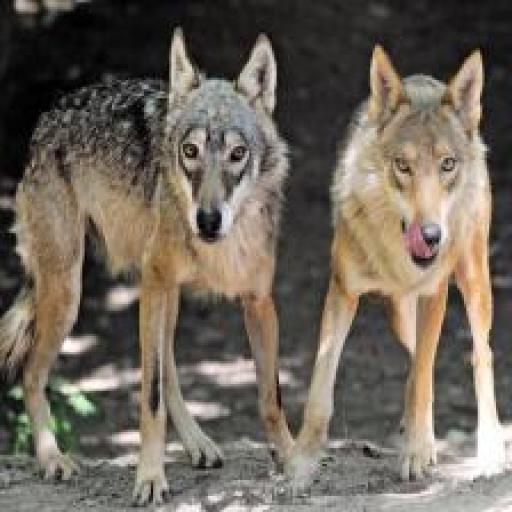wolf: (2, 14, 298, 511), (308, 39, 503, 511)
